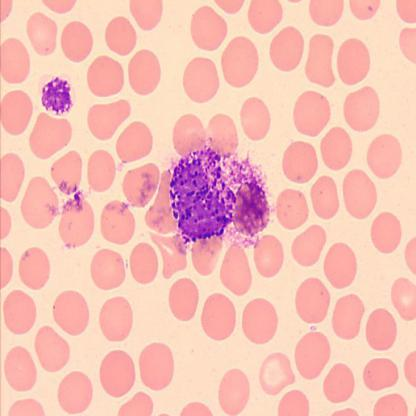Basophil: (165, 142, 240, 249)
